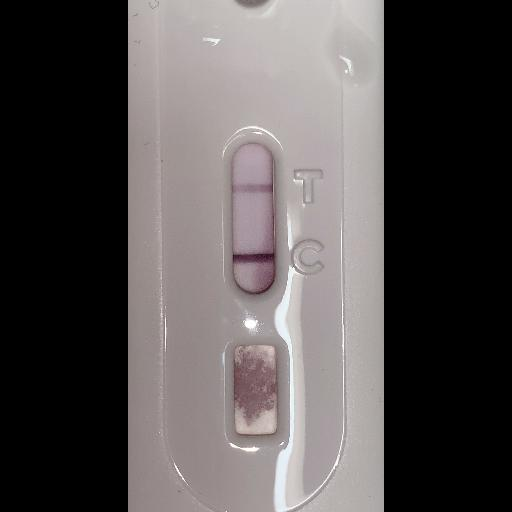Pos: (160, 0, 350, 510)
